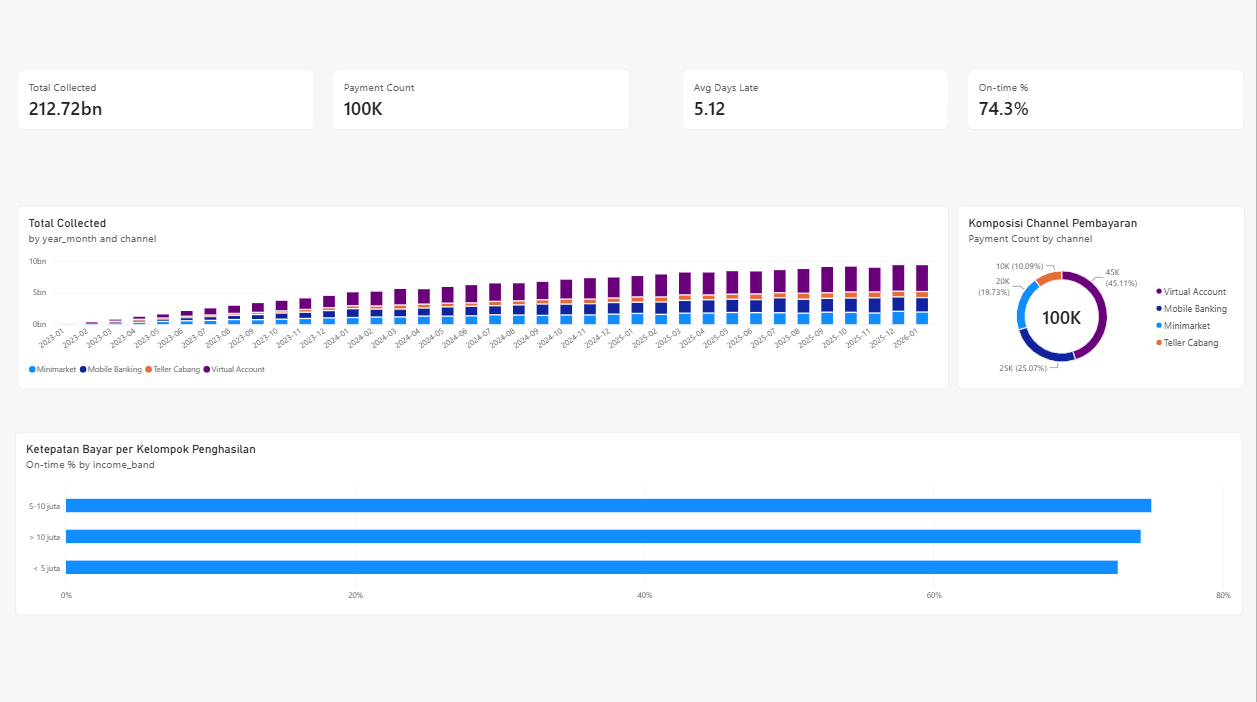

Layout of this report page (visuals, bound fields, positions):
{"tool":"powerbi","page":{"name":"Pembayaran","canvas":[1920,1080],"ordinal":1},"visuals":[{"type":"cardVisual","fields":{"Data":["fact_payment.Total Collected"]},"box":[26,110,454.1,92],"z":0},{"type":"cardVisual","fields":{"Data":["fact_payment.Payment Count"]},"box":[508.1,110,454.1,92],"z":1000},{"type":"cardVisual","fields":{"Data":["fact_payment.On-time %"]},"box":[1478.3,110,422.1,92],"z":2000},{"type":"cardVisual","fields":{"Data":["fact_payment.Avg Days Late"]},"box":[1042.2,110,406.1,92],"z":3000},{"type":"hundredPercentStackedColumnChart","title":"Pembayaran per Bulan per Channel","fields":{"Category":["dim_date.year_month"],"Y":["fact_payment.Total Collected"]},"box":[24,318.1,1422.3,280.1],"z":3001},{"type":"donutChart","title":"Komposisi Channel Pembayaran","fields":{"Category":["fact_payment.channel"],"Y":["fact_payment.Payment Count"]},"box":[1478.3,318.1,422.1,280.1],"z":3002},{"type":"clusteredBarChart","title":"Ketepatan Bayar per Kelompok Penghasilan","fields":{"Category":["dim_customer.income_band"],"Y":["fact_payment.On-time %"]},"box":[22,664.1,1874.4,280.1],"z":3003}]}

Visuals, with their boxes in screenshot pixels (x1, y1, x2, y2), scaled from the page's 1920x1080 canvas onto the 1257x702 screenshot:
cardVisual - fact_payment.Total Collected: 17,72,314,131
cardVisual - fact_payment.Payment Count: 333,72,630,131
cardVisual - fact_payment.On-time %: 968,72,1244,131
cardVisual - fact_payment.Avg Days Late: 682,72,948,131
"Pembayaran per Bulan per Channel" hundredPercentStackedColumnChart: 16,207,947,389
"Komposisi Channel Pembayaran" donutChart: 968,207,1244,389
"Ketepatan Bayar per Kelompok Penghasilan" clusteredBarChart: 14,432,1242,614
